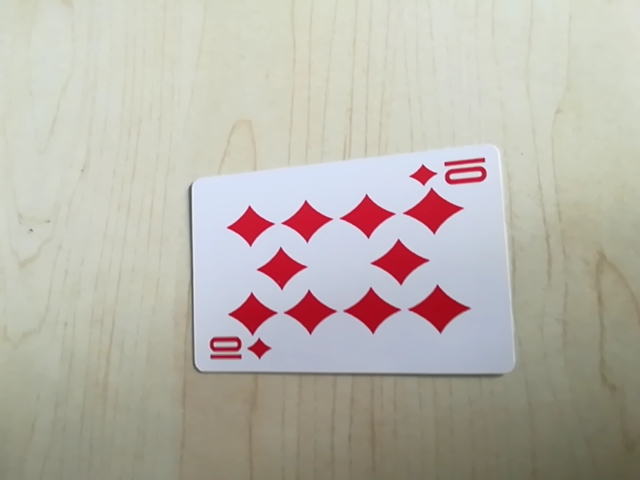fk 10: (407, 153, 496, 192), (201, 333, 274, 369)
